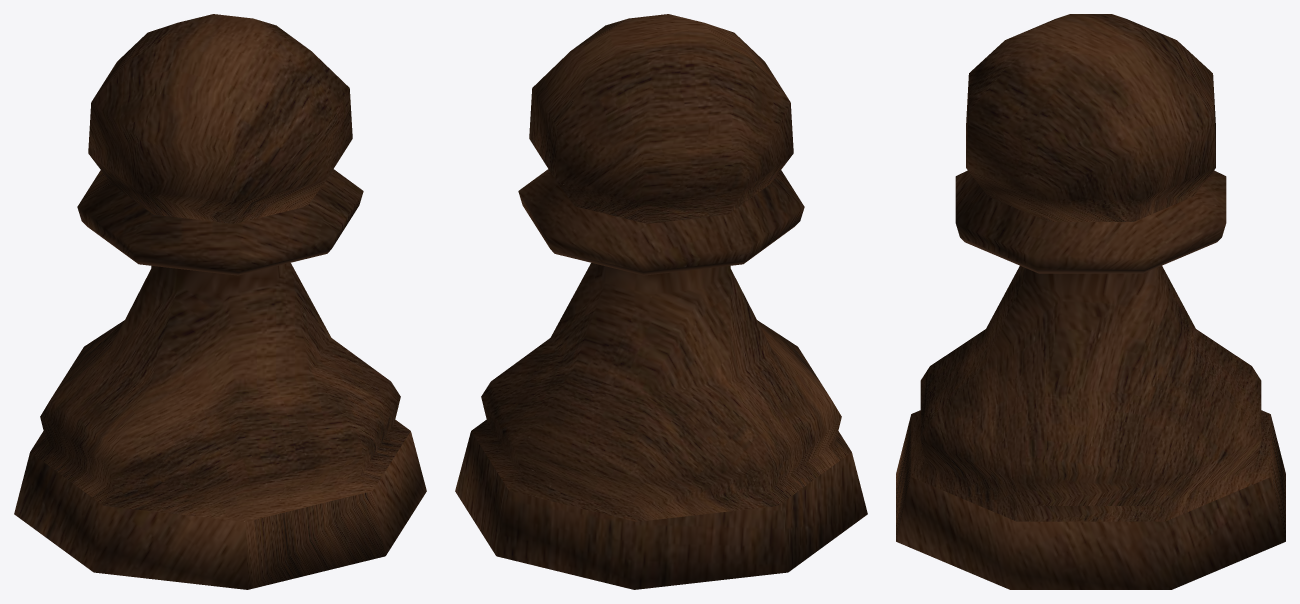
Rendered from gercek4_p_b.glb.
The picture shows the model from 3 angles, left to right: view 1: azimuth 30°, elevation 25°; view 2: azimuth 150°, elevation 25°; view 3: azimuth 270°, elevation 25°; orthographic projection.
Visible parts, largest first — view 1: p; view 2: p; view 3: p.
Boxes of the visible parts, box(x1,y1,x2,y2) form: p: box(14, 14, 426, 589); p: box(455, 14, 867, 589); p: box(896, 14, 1285, 589).
Size of the model in its own units: 0.6667 by 0.9 by 0.6667.
Materials: 1 (1 with a texture image).
